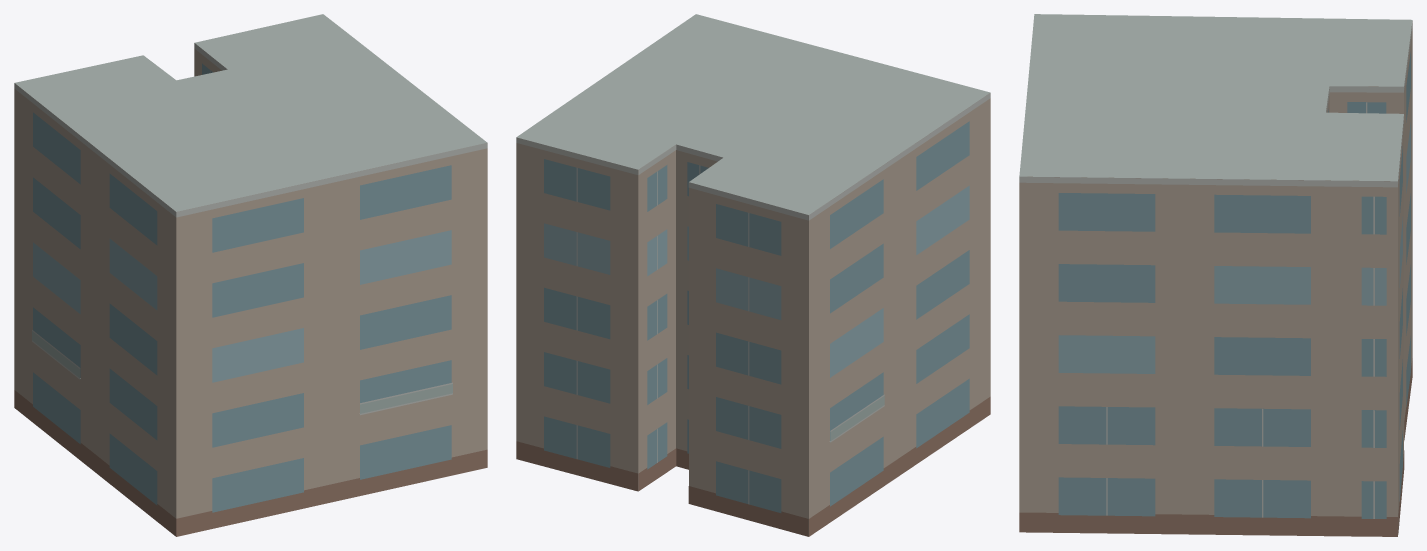
Rendered from survey-upis-32775163.glb.
The picture shows the model from 3 angles, left to right: view 1: azimuth 30°, elevation 25°; view 2: azimuth 150°, elevation 25°; view 3: azimuth 270°, elevation 25°; orthographic projection. The views are drawn at different scales.
Parts seen in each view (by area): view 1: survey-upis-32775163.tmp; view 2: survey-upis-32775163.tmp; view 3: survey-upis-32775163.tmp.
Boxes of the visible parts, left/top/right/bottom form: survey-upis-32775163.tmp: left=14, top=14, right=487, bottom=536; survey-upis-32775163.tmp: left=516, top=14, right=990, bottom=536; survey-upis-32775163.tmp: left=1019, top=14, right=1412, bottom=536.
Size of the model in its own units: 14.32 by 14.2 by 14.24.
